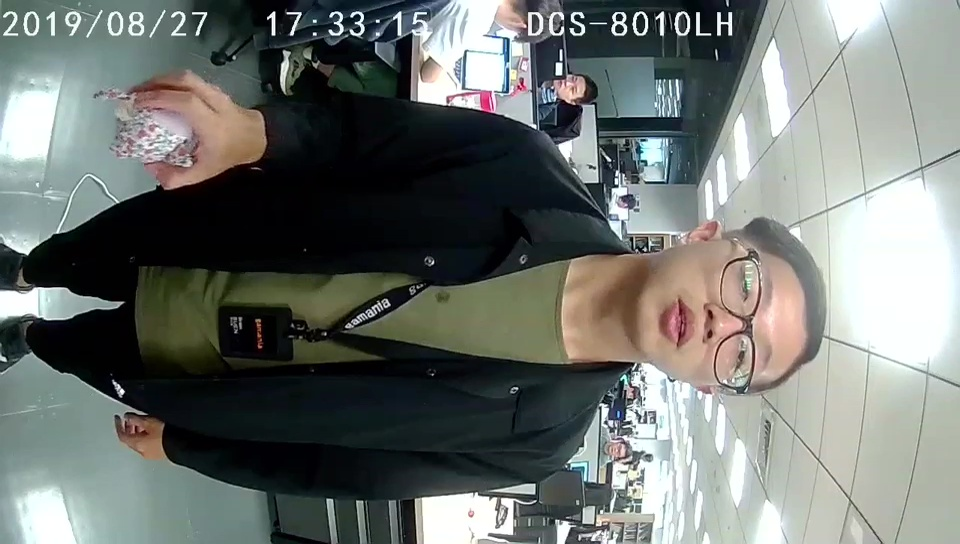pig: (112, 95, 198, 173)
